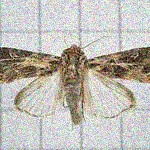Spodoptera litura: (1, 33, 150, 130)
